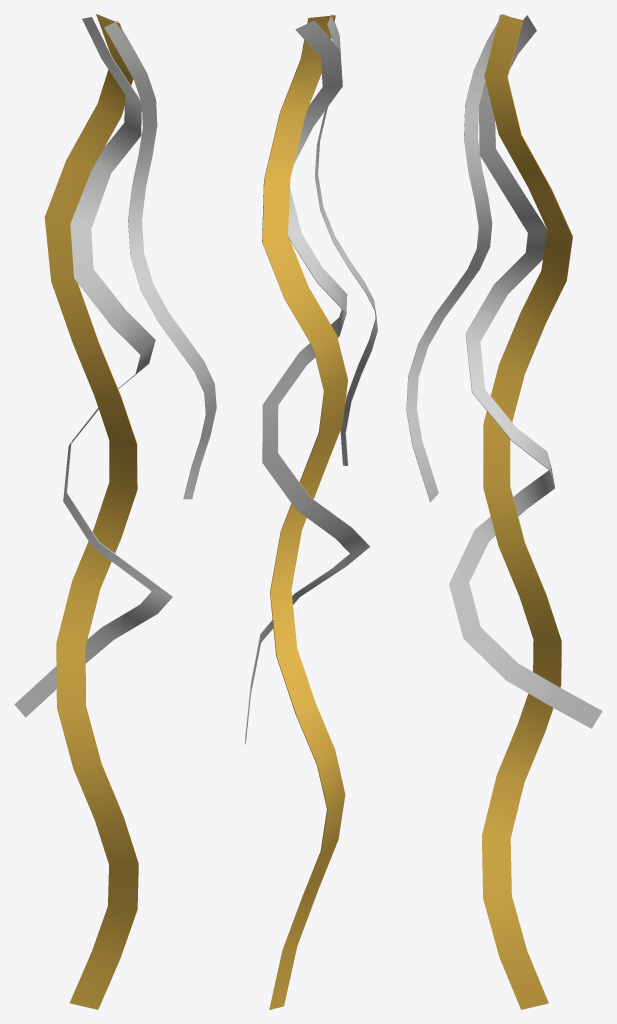
File: PartyBalloons02_Decor1.FBX
The picture shows the model from 3 angles, left to right: view 1: azimuth 90°, elevation 25°; view 2: azimuth 150°, elevation 25°; view 3: azimuth 270°, elevation 25°; orthographic projection. The views are drawn at different scales.
Parts seen in each view (by area): view 1: PartyBalloons02_Decor1; view 2: PartyBalloons02_Decor1; view 3: PartyBalloons02_Decor1.
Part boxes in pixels (<box>): PartyBalloons02_Decor1: <box>14,14,216,1009</box>; PartyBalloons02_Decor1: <box>245,14,377,1009</box>; PartyBalloons02_Decor1: <box>406,14,602,1009</box>.
Bounding box in the file's own units: 0.0474 × 0.455 × 0.0827.
